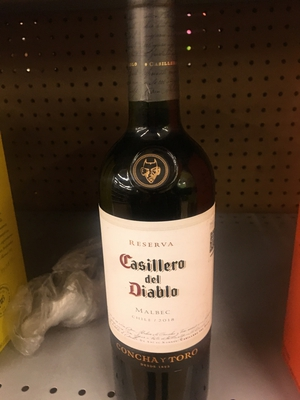casillero del diablo malbec: (77, 23, 232, 400)
